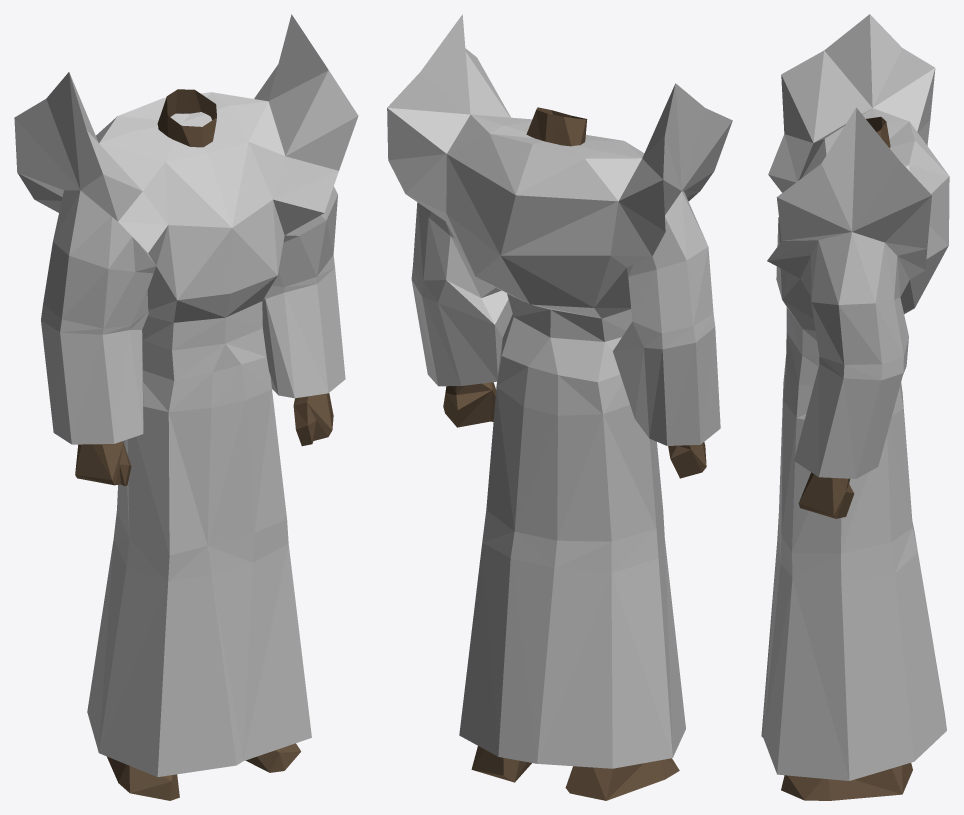
File: ARMOR_XARDAS.OBJ
The picture shows the model from 3 angles, left to right: view 1: azimuth 30°, elevation 25°; view 2: azimuth 150°, elevation 25°; view 3: azimuth 270°, elevation 25°; orthographic projection. The views are drawn at different scales.
Visible parts, largest first — view 1: ARMOR_XARDAS; view 2: ARMOR_XARDAS; view 3: ARMOR_XARDAS.
Boxes of the visible parts, bbox=[...] form: ARMOR_XARDAS: bbox=[14, 14, 358, 800]; ARMOR_XARDAS: bbox=[387, 14, 732, 800]; ARMOR_XARDAS: bbox=[761, 14, 949, 800].
Bounding box in the file's own units: 0.7382 × 1.83 × 0.442.
